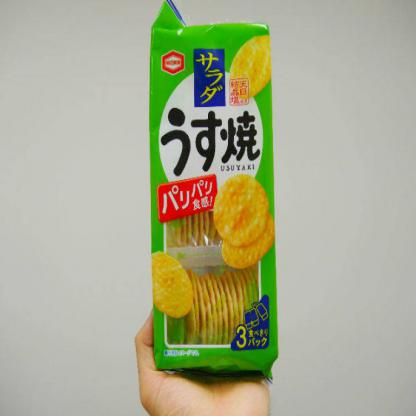potatochip: (144, 0, 287, 391)
